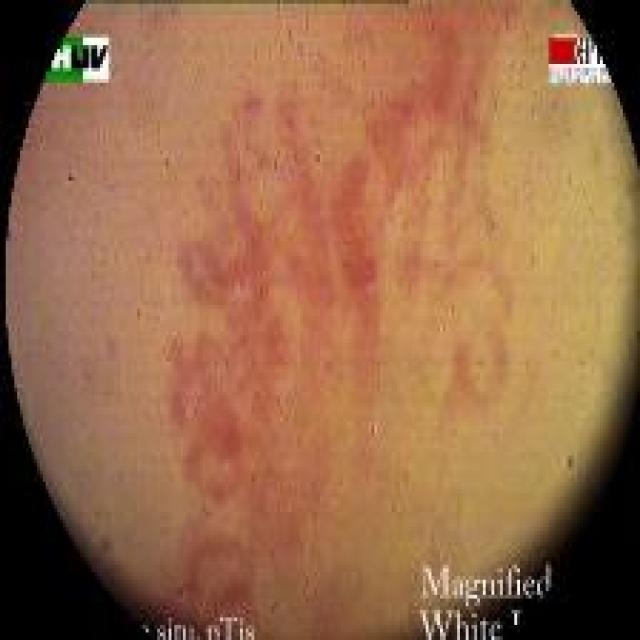blur: (152, 48, 519, 587)
color misalignment: (420, 558, 560, 639), (544, 30, 620, 89), (42, 31, 114, 87), (141, 605, 256, 640), (559, 453, 577, 477), (283, 163, 295, 183), (310, 153, 324, 170), (266, 598, 279, 615), (322, 359, 333, 379), (90, 527, 103, 543), (64, 172, 77, 186)
